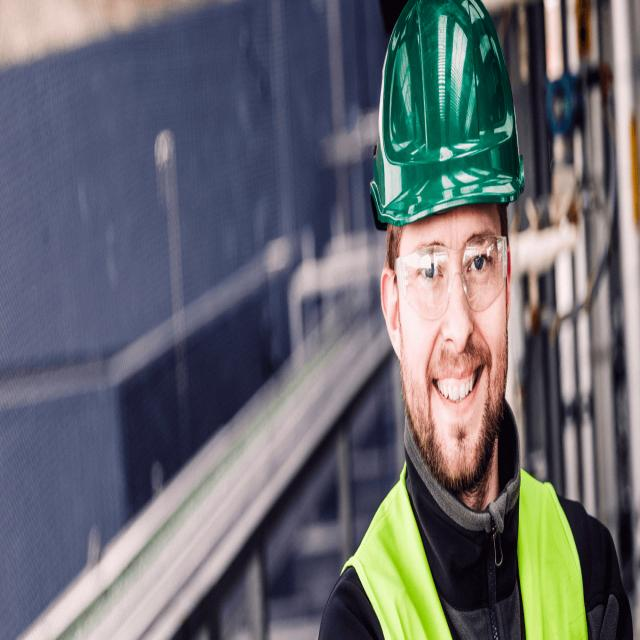Helmet: (370, 0, 528, 226)
Protective Glasses: (373, 237, 520, 314)
